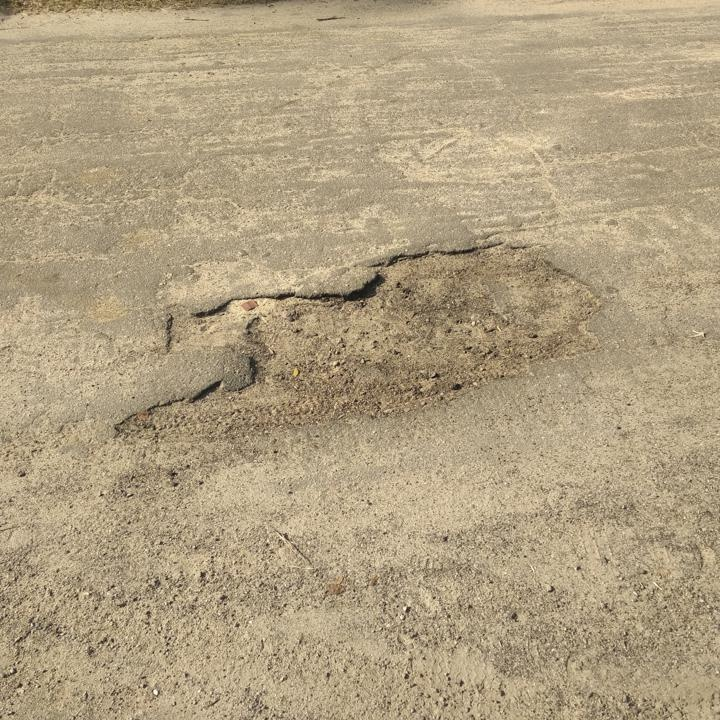pothole: (104, 234, 607, 447)
